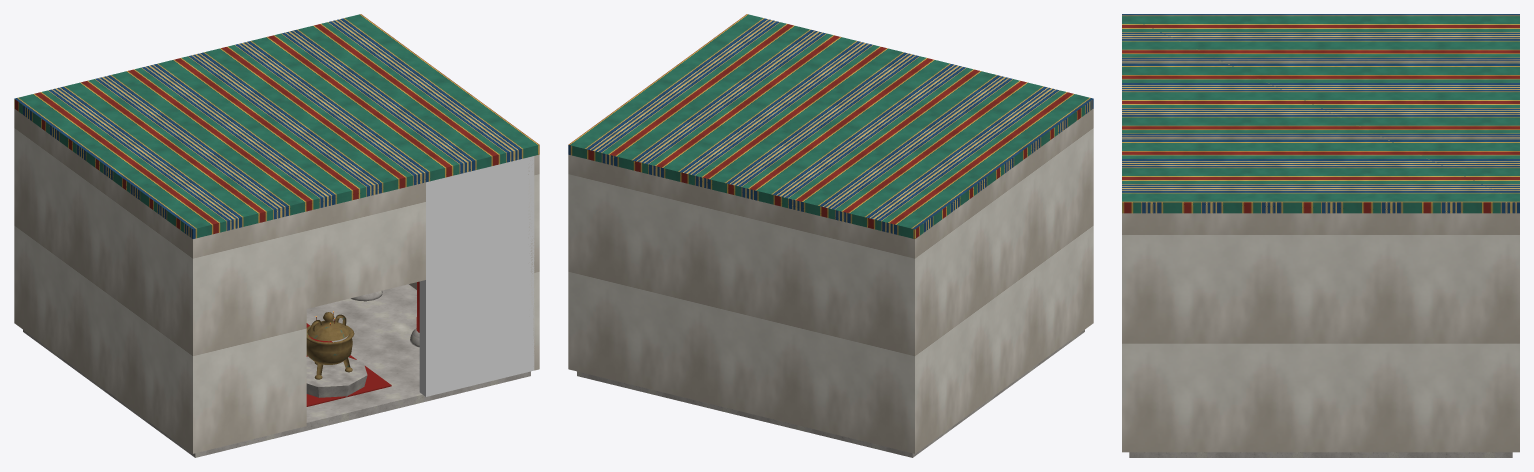
File: sect_main_hall.glb
3 renders of one model, left to right at view 1: azimuth 30°, elevation 25°; view 2: azimuth 150°, elevation 25°; view 3: azimuth 270°, elevation 25°, orthographic. The views are drawn at different scales.
Visible parts, largest first — view 1: Walls, Ceiling, ShellFront-convcolonly.001, Floor, Cauldron, BurnerPlinth, Rug; view 2: Walls, Ceiling, Floor; view 3: Walls, Ceiling, Floor.
Boxes of the visible parts, x1,y1,x2,y2 form: Walls: (14, 109, 539, 453); Ceiling: (14, 14, 539, 238); ShellFront-convcolonly.001: (419, 156, 534, 396); Floor: (23, 284, 530, 457); Cauldron: (306, 312, 354, 379); BurnerPlinth: (306, 356, 367, 397); Rug: (306, 323, 391, 406); Walls: (568, 109, 1093, 453); Ceiling: (568, 14, 1093, 238); Floor: (577, 330, 1084, 457); Walls: (1122, 213, 1519, 452); Ceiling: (1122, 14, 1519, 213); Floor: (1129, 452, 1512, 457).
Size of what is drawn, in the model's own units: 9.3 by 5.95 by 8.3.
13 materials, 10 textured.
